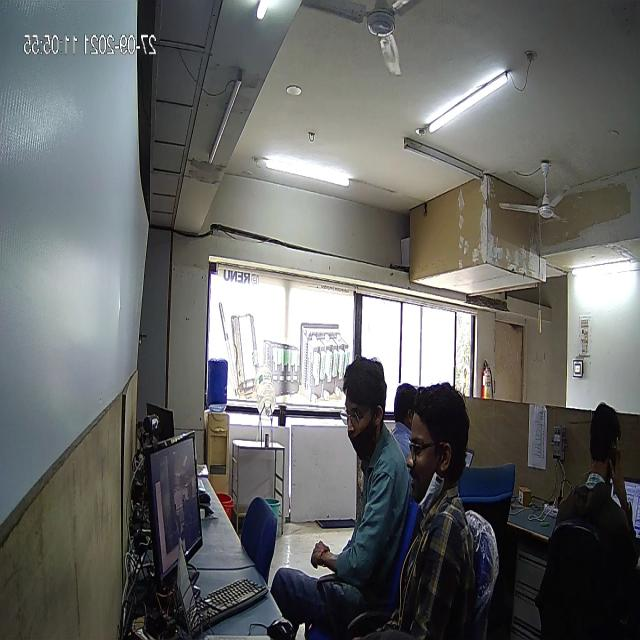adult: (274, 344, 410, 633), (398, 367, 484, 640)
